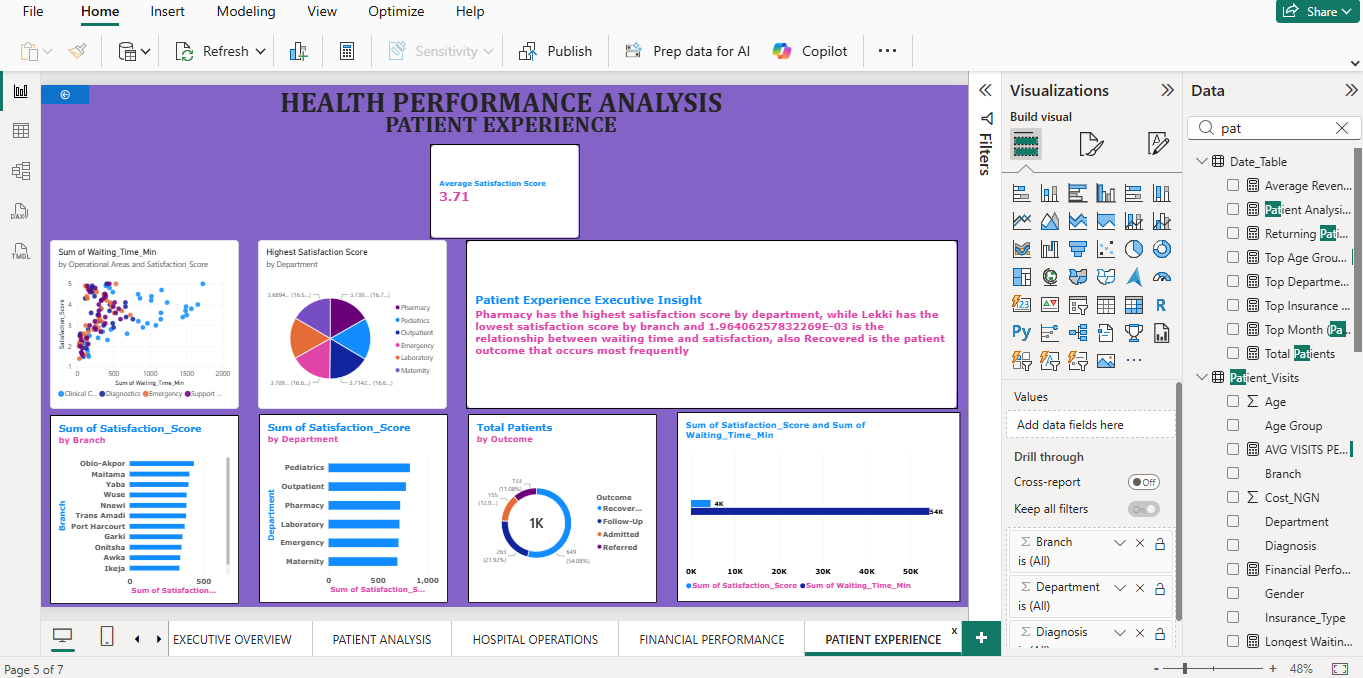

What the dashboard file says about the page in this screenshot:
{"tool":"powerbi","page":{"name":"PATIENT EXPERIENCE","canvas":[1920,1080],"ordinal":4},"visuals":[{"type":"cardVisual","fields":{"Data":["Date_Table.Average Satisfaction Score"]},"box":[805,121.9,310,196.3],"z":0},{"type":"clusteredBarChart","fields":{"Category":["Patient_Visits.Department"],"Y":["Sum(Patient_Visits.Satisfaction_Score)"]},"box":[451.2,682,390.6,390.6],"z":1000},{"type":"clusteredBarChart","fields":{"Category":["Patient_Visits.Branch"],"Y":["Sum(Patient_Visits.Satisfaction_Score)"]},"box":[18.6,684.1,390.6,390.6],"z":2000},{"type":"clusteredBarChart","fields":{"Y":["Sum(Patient_Visits.Satisfaction_Score)","Sum(Patient_Visits.Waiting_Time_Min)"]},"box":[1316.5,677.9,587,392.7],"z":3000},{"type":"donutChart","fields":{"Category":["Patient_Visits.Outcome"],"Y":["Date_Table.Total Patients"]},"box":[883.9,682,390.6,390.6],"z":4000},{"type":"actionButton","box":[1756.9,369.5,80,80],"z":5000},{"type":"textbox","box":[495.1,0,929.8,70.6],"z":6000},{"type":"textbox","box":[712.3,51.6,495.5,70.2],"z":7000},{"type":"actionButton","box":[0,0,100,40],"z":8000},{"type":"cardVisual","fields":{"Data":["Patient_Visits.Patient Experience Executive Insight"]},"box":[880.4,320.3,1018.9,350],"z":9000},{"type":"pieChart","fields":{"Category":["Patient_Visits.Department"],"Y":["State_Targets.Highest Satisfaction Score"]},"box":[449.5,320.3,390.6,350],"z":10000},{"type":"scatterChart","fields":{"Series":["Patient_Visits.Operational Areas"],"X":["Sum(Patient_Visits.Waiting_Time_Min)"],"Y":["Patient_Visits.Satisfaction_Score"]},"box":[18.6,320.3,390.6,350],"z":11000}]}

Visuals, with their boxes on the page's 1920x1080 design canvas (x1, y1, x2, y2). These are canvas units, not pixel positions in the 1363x678 screenshot, which may show the page scaled, cropped or inside an application window:
cardVisual - Date_Table.Average Satisfaction Score: bbox=[805, 122, 1115, 318]
clusteredBarChart - Patient_Visits.Department x Sum(Patient_Visits.Satisfaction_Score): bbox=[451, 682, 842, 1073]
clusteredBarChart - Patient_Visits.Branch x Sum(Patient_Visits.Satisfaction_Score): bbox=[19, 684, 409, 1075]
clusteredBarChart - Sum(Patient_Visits.Satisfaction_Score) x Sum(Patient_Visits.Waiting_Time_Min): bbox=[1316, 678, 1904, 1071]
donutChart - Patient_Visits.Outcome x Date_Table.Total Patients: bbox=[884, 682, 1274, 1073]
actionButton: bbox=[1757, 370, 1837, 450]
textbox: bbox=[495, 0, 1425, 71]
textbox: bbox=[712, 52, 1208, 122]
actionButton: bbox=[0, 0, 100, 40]
cardVisual - Patient_Visits.Patient Experience Executive Insight: bbox=[880, 320, 1899, 670]
pieChart - Patient_Visits.Department x State_Targets.Highest Satisfaction Score: bbox=[450, 320, 840, 670]
scatterChart - Patient_Visits.Operational Areas x Sum(Patient_Visits.Waiting_Time_Min): bbox=[19, 320, 409, 670]
